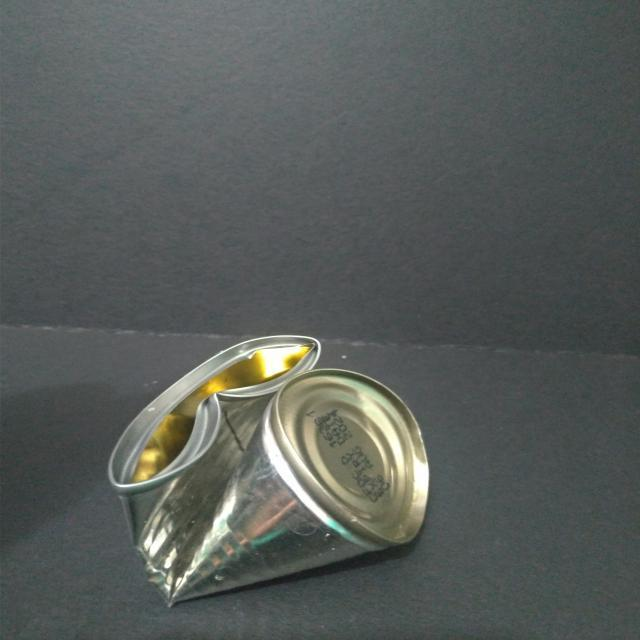metal-can: (105, 328, 437, 607)
